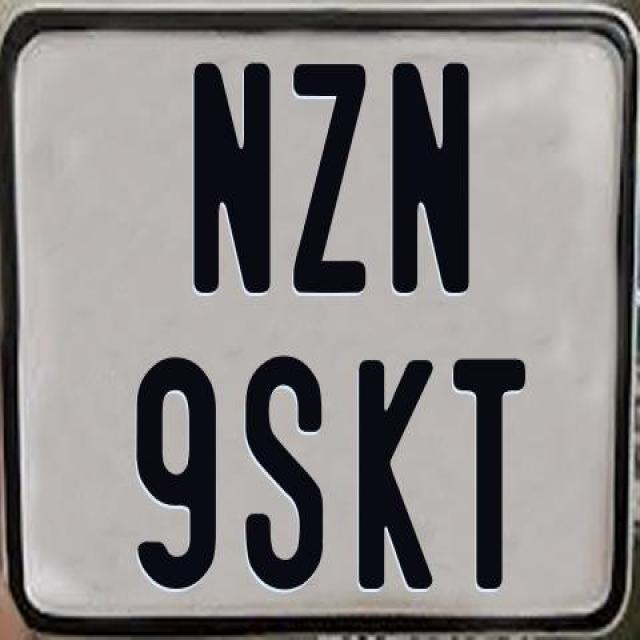9: (133, 352, 214, 590)
K: (358, 356, 438, 594)
N: (194, 58, 278, 288), (389, 61, 467, 300)
S: (245, 355, 324, 595)
T: (452, 354, 530, 590)
Z: (290, 62, 370, 298)
